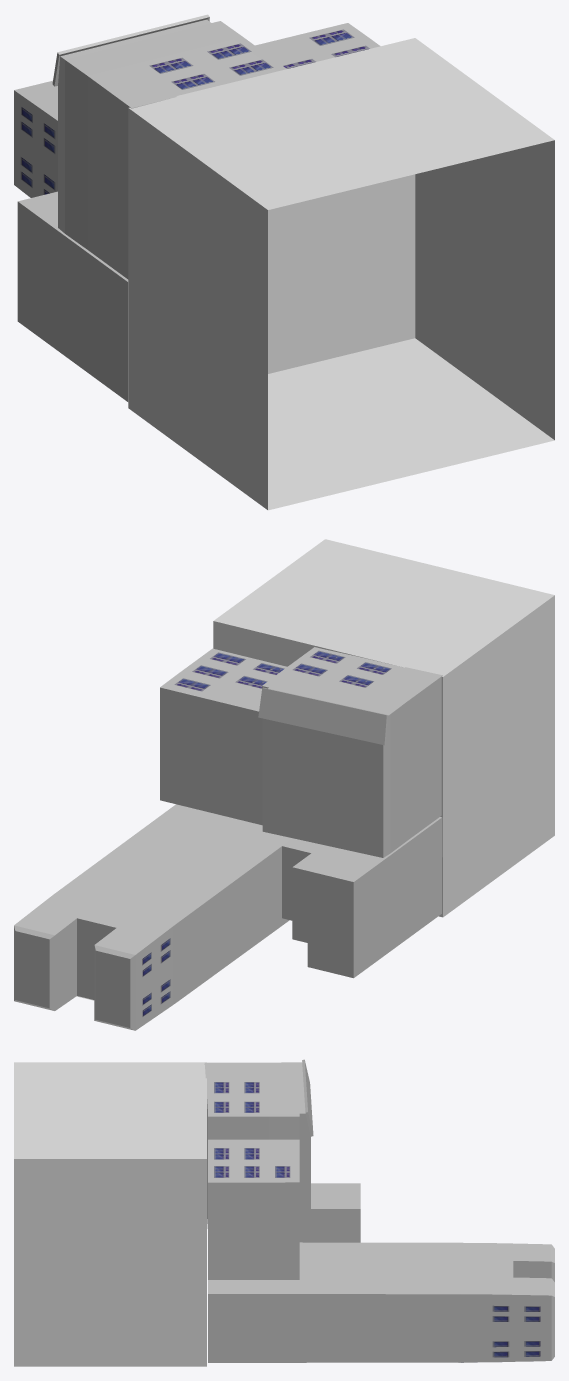
The model's file is block_medium_02.FBX.
3 views of the same model, one above another, from view 1: azimuth 30°, elevation 25°; view 2: azimuth 150°, elevation 25°; view 3: azimuth 270°, elevation 25° (orthographic). The views are drawn at different scales.
Visible parts, largest first — view 1: Plane002, building_warehouse_3s, building_apartment_5s, building_neonepali_11s; view 2: Plane002, building_warehouse_3s, building_neonepali_11s, building_apartment_5s, building_brutalist_3s; view 3: Plane002, building_neonepali_11s, building_warehouse_3s, building_apartment_5s.
Part boxes in pixels (x1,y1,x2,y2): Plane002: [128, 38, 554, 510]; building_warehouse_3s: [52, 14, 380, 279]; building_apartment_5s: [17, 191, 128, 401]; building_neonepali_11s: [14, 80, 57, 197]; Plane002: [213, 539, 554, 917]; building_warehouse_3s: [160, 647, 442, 857]; building_neonepali_11s: [14, 804, 292, 1030]; building_apartment_5s: [292, 817, 442, 978]; building_brutalist_3s: [282, 838, 322, 920]; Plane002: [14, 1062, 206, 1366]; building_neonepali_11s: [208, 1242, 554, 1362]; building_warehouse_3s: [204, 1059, 313, 1279]; building_apartment_5s: [299, 1183, 360, 1242].
Bounding box in the file's own units: 30.35 × 30.4 × 70.88.
